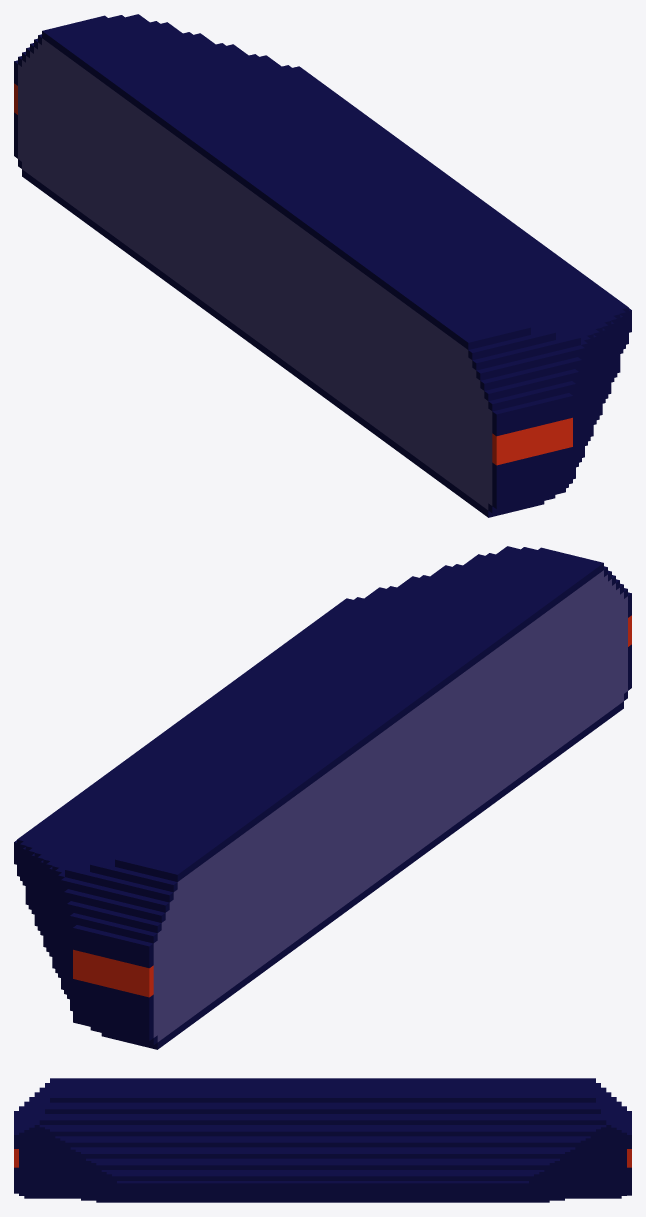
Rendered from escena nave interior-5-navedelantera.obj.
3 views of the same model, one above another, from view 1: azimuth 30°, elevation 25°; view 2: azimuth 150°, elevation 25°; view 3: azimuth 270°, elevation 25° (orthographic). The views are drawn at different scales.
Parts seen in each view (by area): view 1: navedelantera; view 2: navedelantera; view 3: navedelantera.
Part boxes in pixels (bbox=[...]): navedelantera: bbox=[14, 14, 631, 517]; navedelantera: bbox=[14, 546, 631, 1049]; navedelantera: bbox=[14, 1078, 631, 1202].
Bounding box in the file's own units: 3.1 × 2.2 × 12.
Materials: 1 (1 with a texture image).
